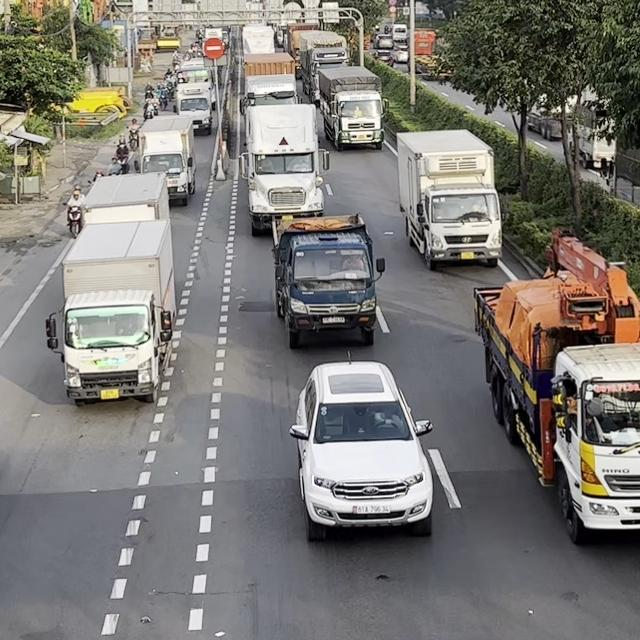car: (288, 352, 434, 540)
motorcycle: (65, 204, 83, 238)
truck: (469, 227, 639, 545), (44, 218, 176, 406), (270, 212, 385, 349), (395, 128, 502, 270), (237, 102, 332, 236), (314, 65, 388, 151), (127, 114, 196, 206), (80, 171, 170, 225), (297, 29, 350, 103), (239, 52, 299, 114), (173, 82, 213, 135)
